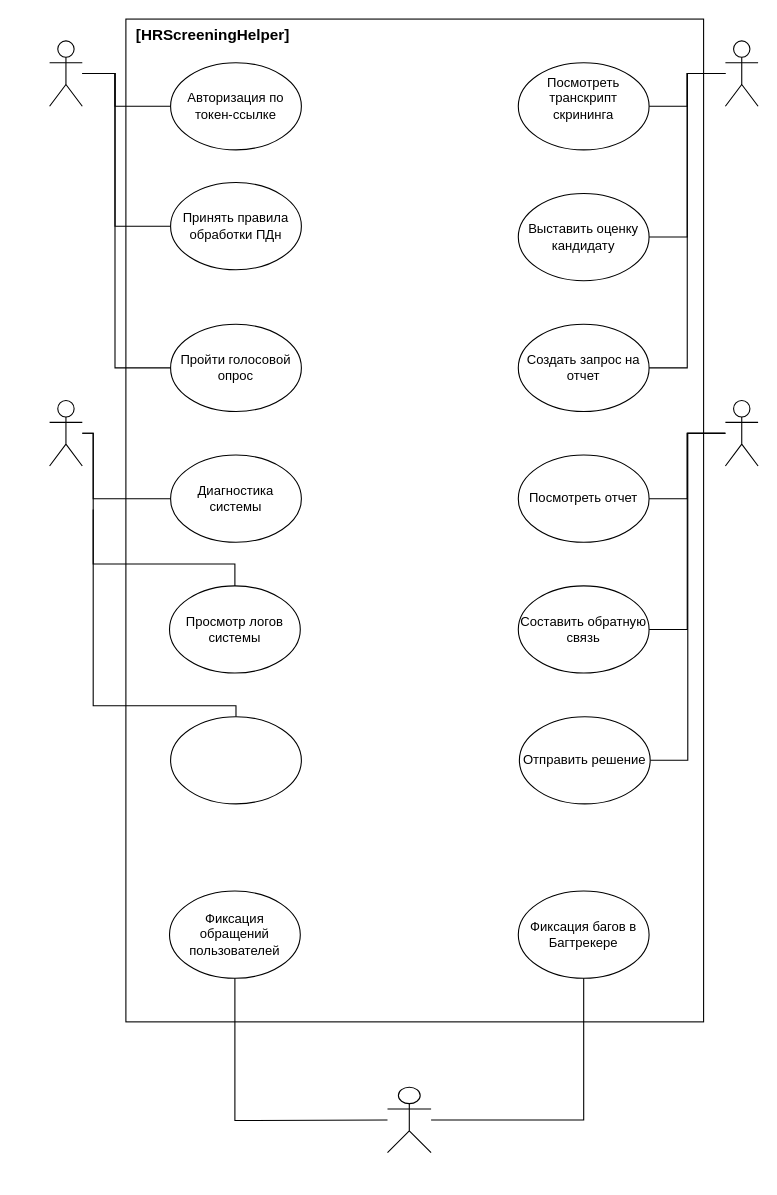
The diagram is 777 pixels wide and 1195 high, and some of its shapes have lost their labels. The shapes that lost their labels are listed below. From the top down, each one's centre as x and y in pixels, then its label:
At point (65, 73): "Кандидат".
At point (741, 73): "HR".
At point (65, 432): "Администратор".
At point (741, 432): "ЛПР".
At point (235, 760): "Проверка багтрекера".
At point (408, 1119): "Специалист техподержки".
